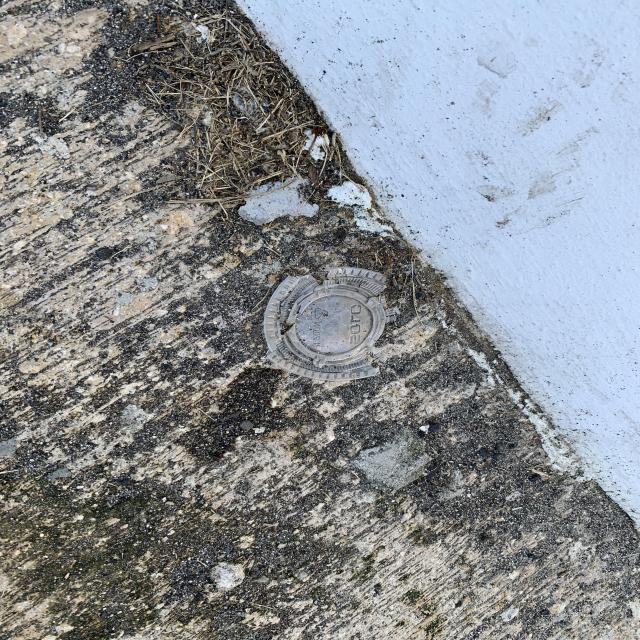Plastic lid: (263, 267, 400, 381)
